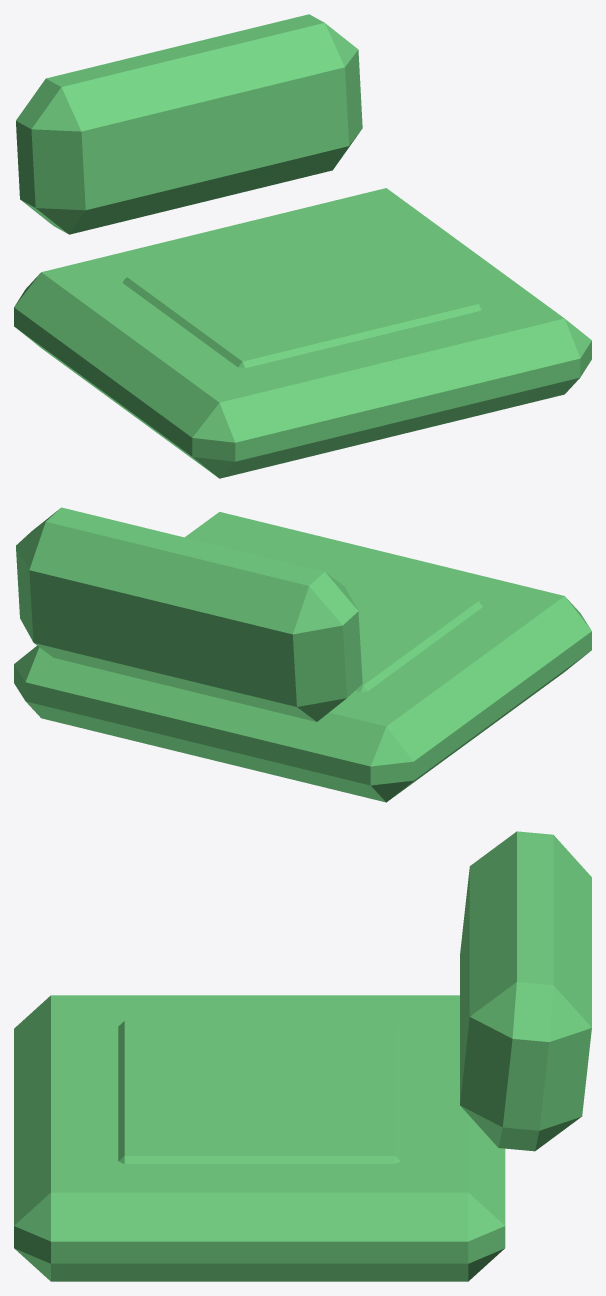
The model's file is chair_m2_1.glb.
3 renders of one model, top to bottom at view 1: azimuth 30°, elevation 25°; view 2: azimuth 150°, elevation 25°; view 3: azimuth 270°, elevation 25°, orthographic. The views are drawn at different scales.
Parts seen in each view (by area): view 1: chair_m2_1_mesh; view 2: chair_m2_1_mesh; view 3: chair_m2_1_mesh.
Boxes of the visible parts, box(x1,y1,x2,y2) form: chair_m2_1_mesh: box(14, 14, 591, 478); chair_m2_1_mesh: box(14, 507, 591, 802); chair_m2_1_mesh: box(14, 831, 591, 1281).
Size of the model in its own units: 0.44 by 0.2483 by 0.4706.
